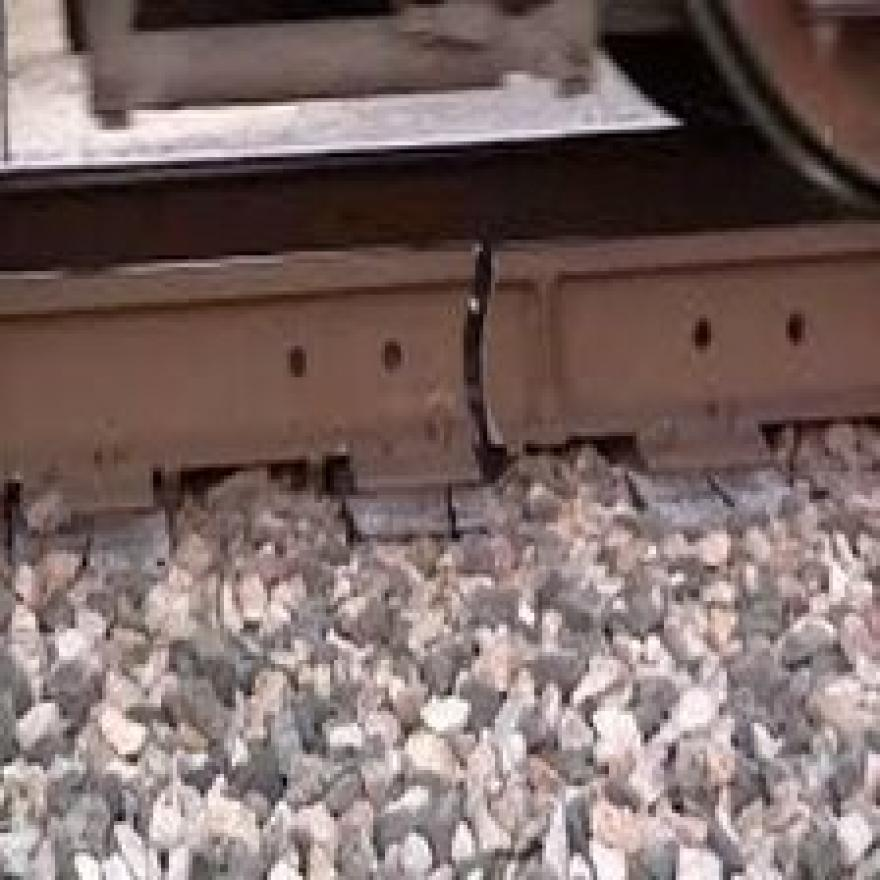railway-gap: (336, 216, 614, 488)
